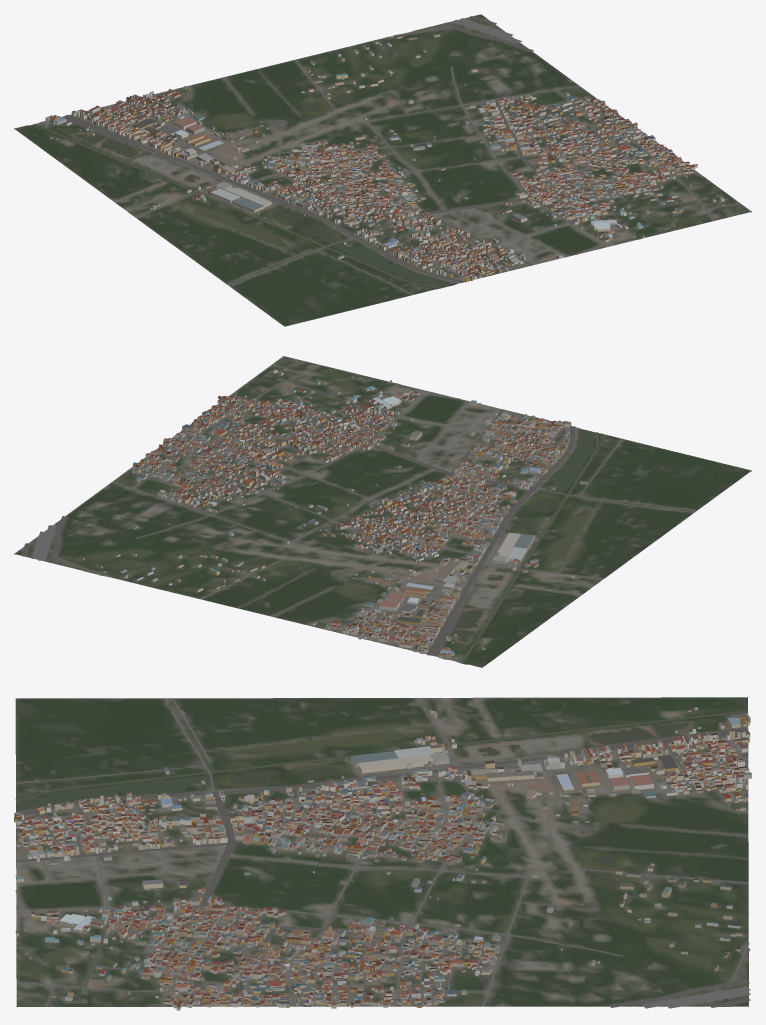
3 renders of one model, top to bottom at view 1: azimuth 30°, elevation 25°; view 2: azimuth 150°, elevation 25°; view 3: azimuth 270°, elevation 25°, orthographic. The views are drawn at different scales.
Visible parts, largest first — view 1: ground, buildings, roads, water; view 2: ground, buildings, roads, water; view 3: ground, buildings, roads, water.
Part boxes in pixels (x1=…): ground: x1=14, y1=14, x2=751, y2=326; buildings: x1=45, y1=34, x2=724, y2=282; roads: x1=62, y1=16, x2=740, y2=294; water: x1=33, y1=22, x2=484, y2=288; ground: x1=14, y1=356, x2=751, y2=667; buildings: x1=79, y1=368, x2=587, y2=659; roads: x1=21, y1=364, x2=696, y2=656; water: x1=23, y1=430, x2=599, y2=663; ground: x1=15, y1=697, x2=748, y2=1006; buildings: x1=14, y1=706, x2=751, y2=1010; roads: x1=15, y1=698, x2=750, y2=1008; water: x1=15, y1=710, x2=750, y2=1006.
Size of the model in its own units: 1419 by 23.4 by 1412.
